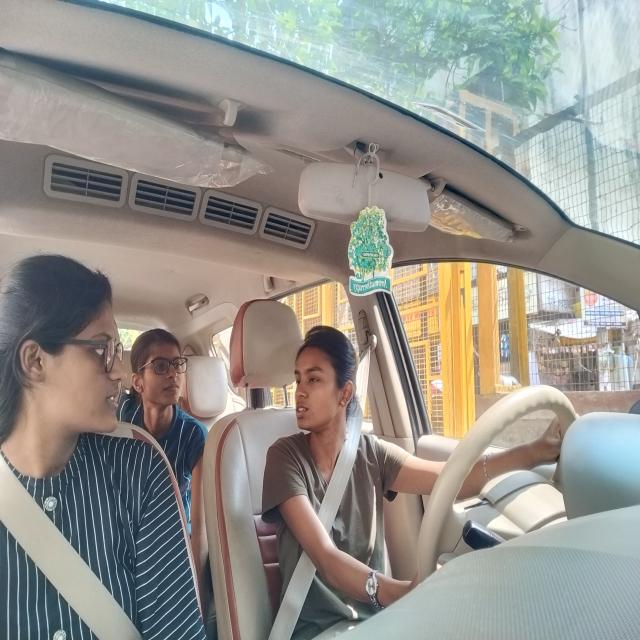LeftRight: (289, 340, 362, 430)
person: (20, 270, 131, 432), (138, 329, 192, 414)
